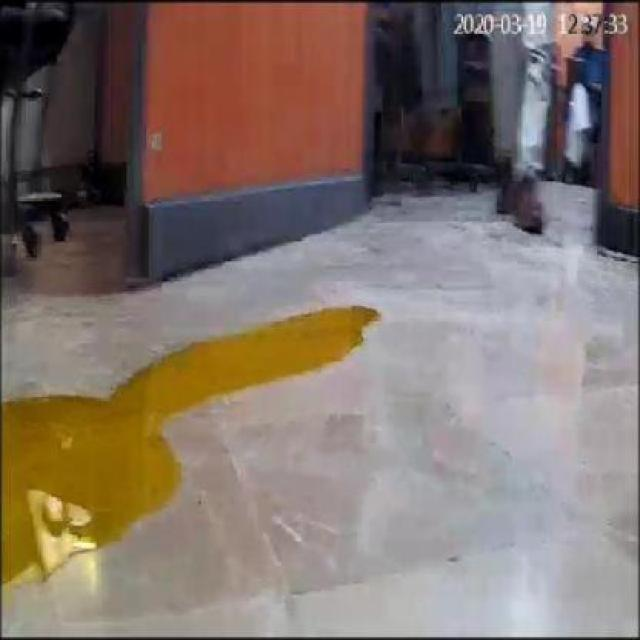spillage: (3, 306, 381, 587)
